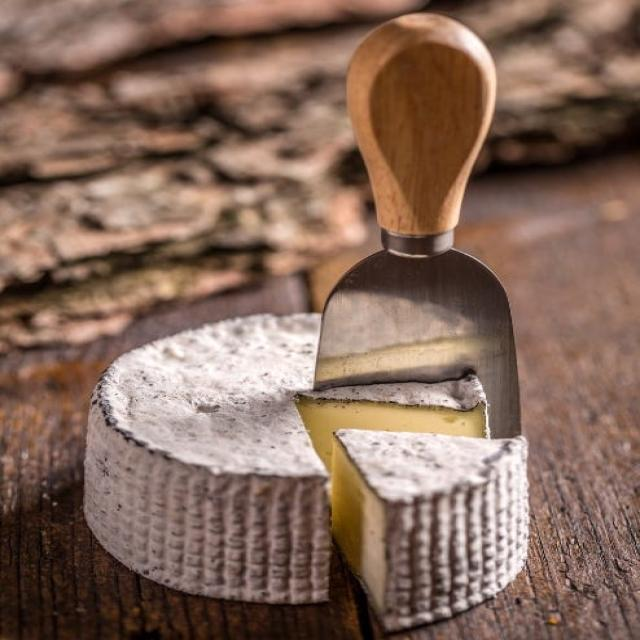Cheese: (74, 301, 548, 630), (331, 413, 545, 626)
